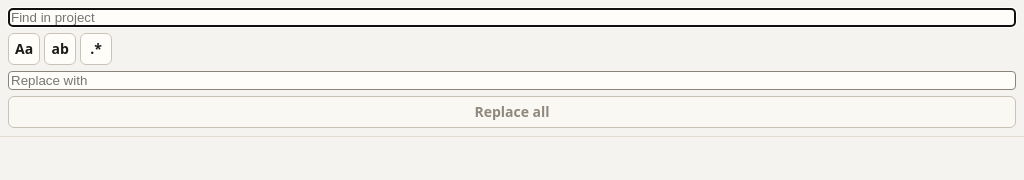
Test: ProjectSearch › toggles options with buttons and Alt keys, and shows regex errors inline
Press r in the field labelled "Find in project", box [8,8,1016,27]
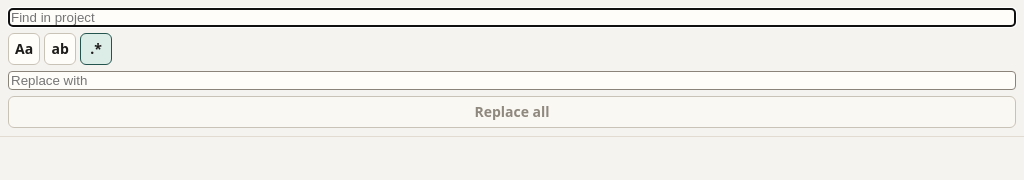
Expected: the button ".*" is pressed, [80,33,112,65]
Type "(" into the field labelled "Find in project". click: (512, 18)
box: [8,8,1016,27]
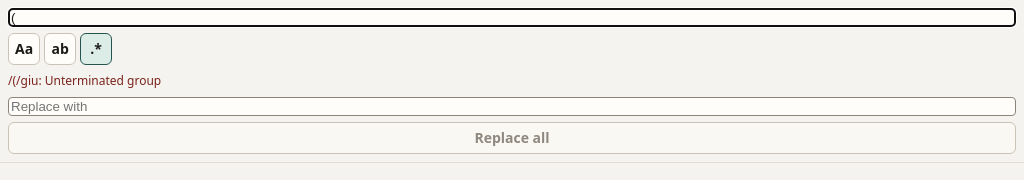
Expected: the message is shown, [8,72,161,89]
Click the button "Aa". click: (24, 49)
box: [8,33,40,65]
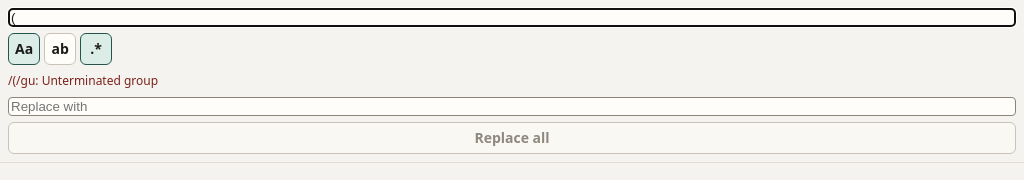
Expected: the button "Aa" is pressed, [8,33,40,65]
